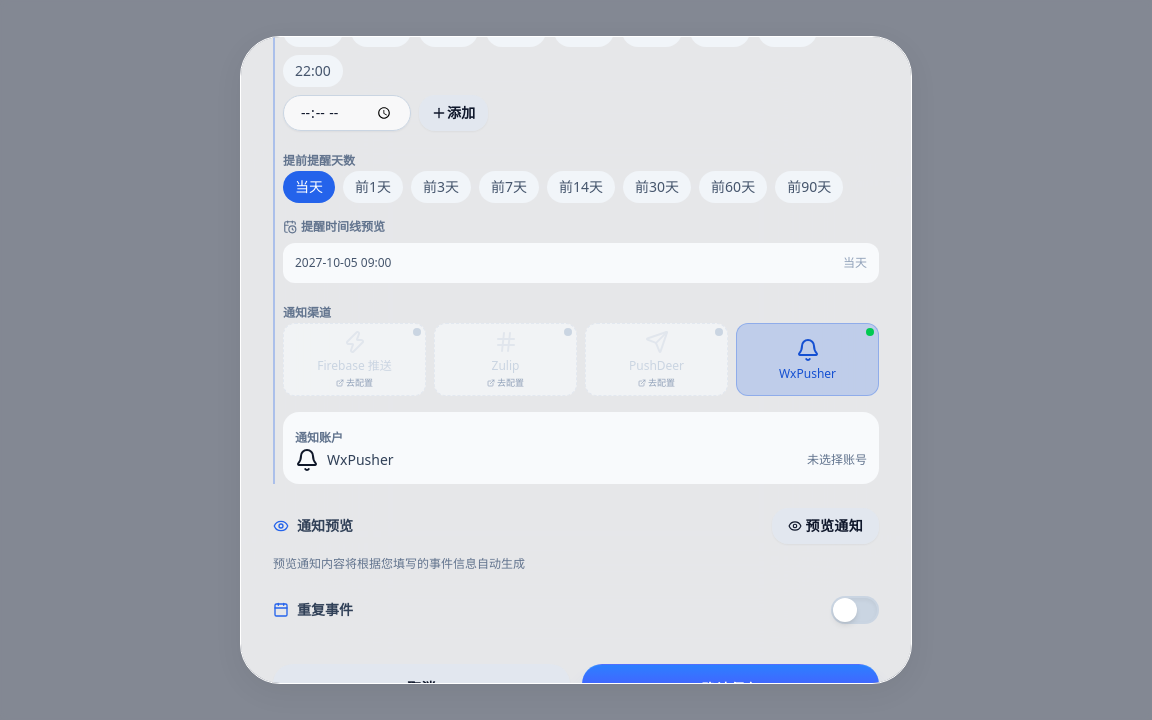
Test case: EventForm channel picker (new channels must be usable when configured) › deselects a legacy channel alias instead of appending the canonical id
This screenshot has width=1152, height=720.
(page scrolled)
Expected: the text "通知账户" is shown, [295,429,343,446]
Click the button "WxPusher" at (808, 360), box [736,323,879,396]
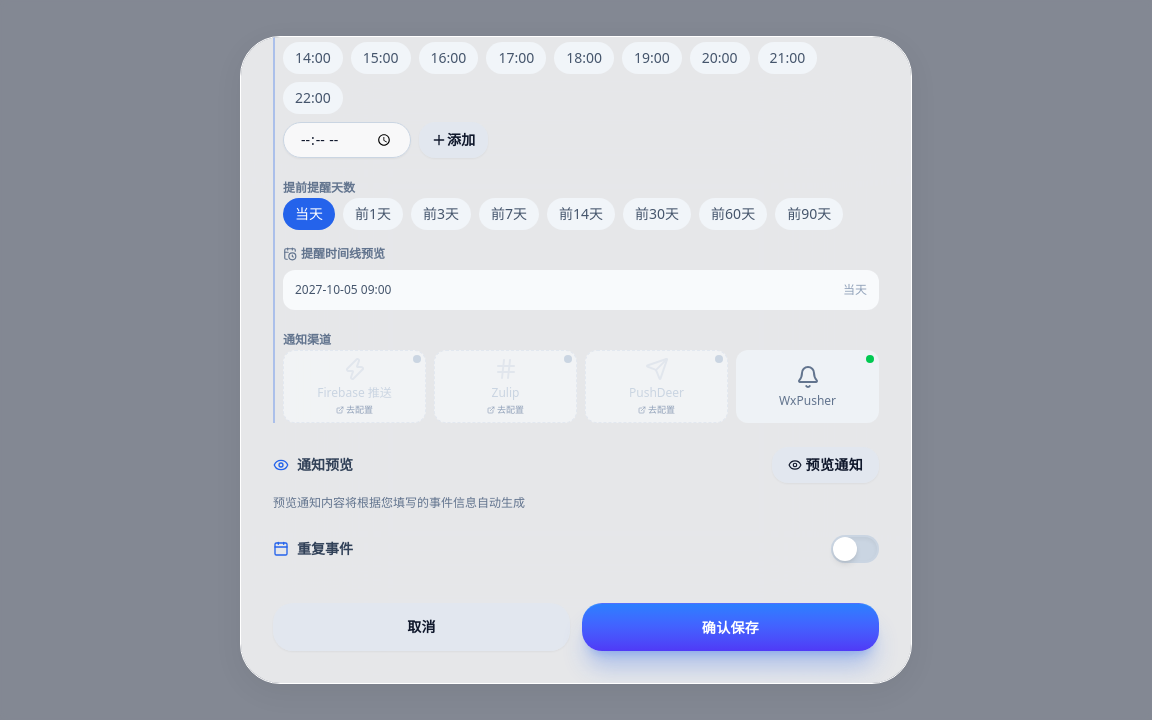
Now the text "通知账户" is gone
